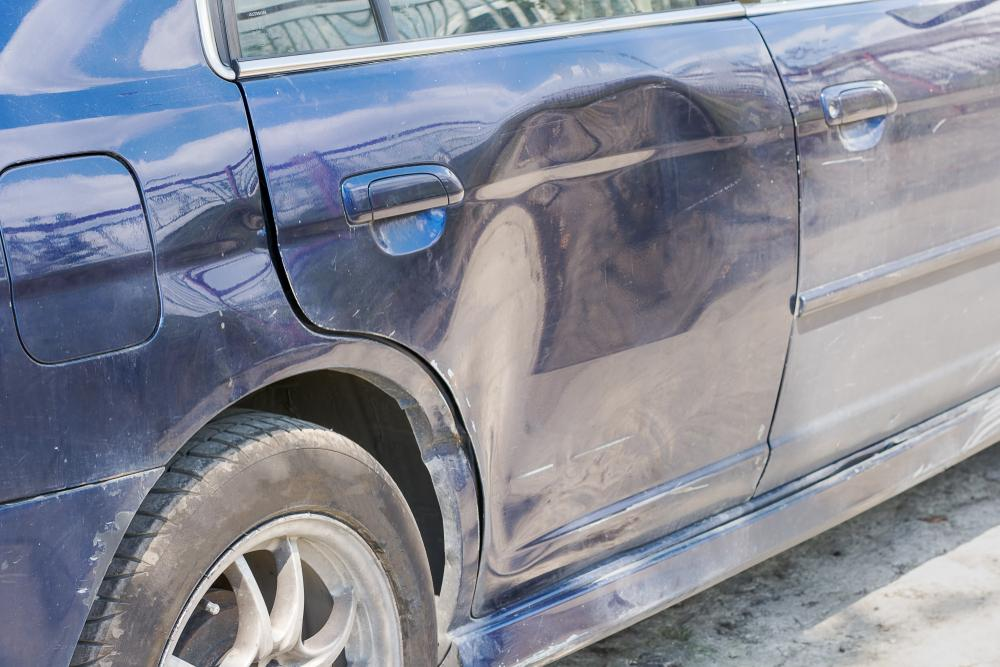dent: (430, 82, 777, 571), (153, 196, 274, 314)
